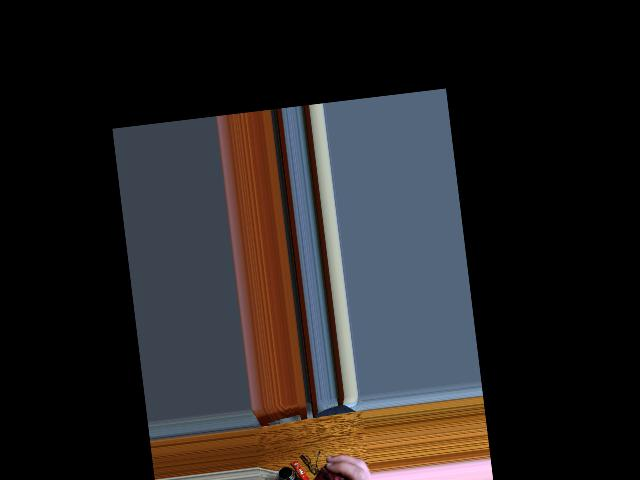onion: (320, 468, 356, 480)
